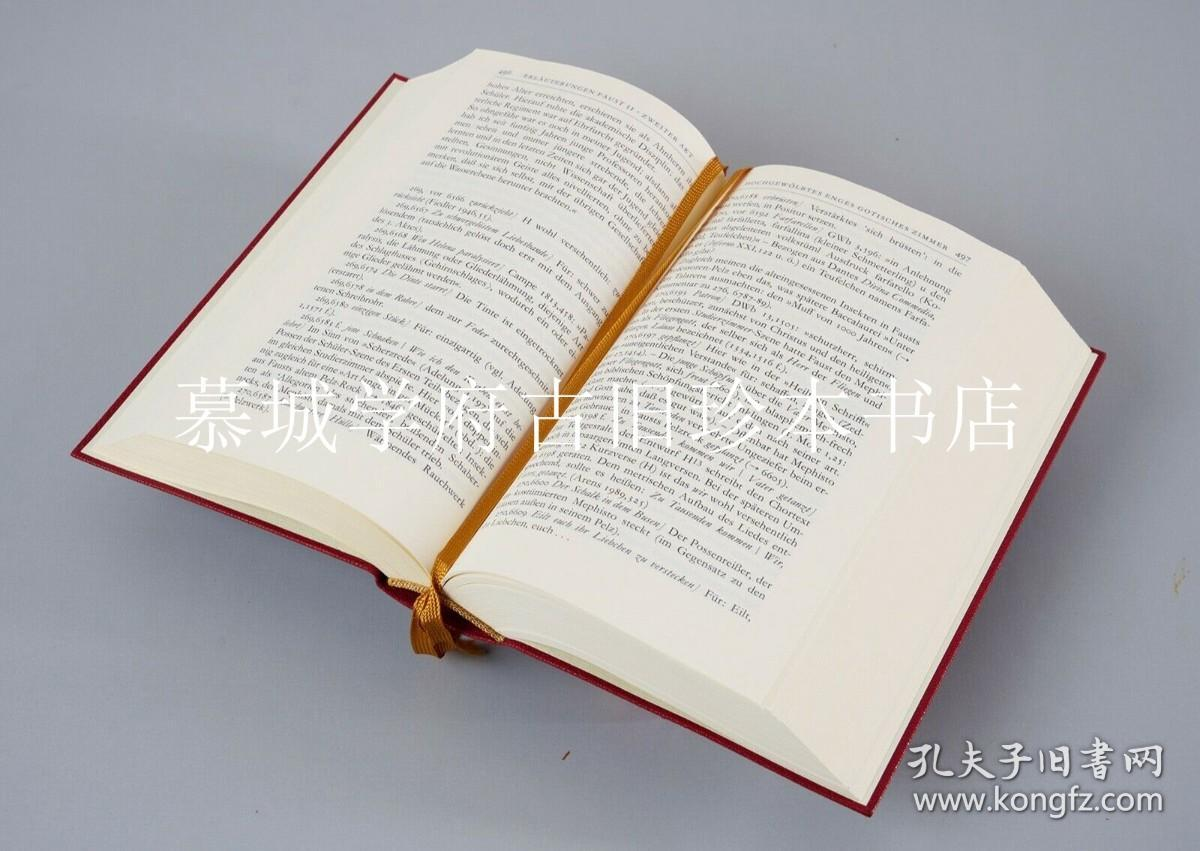book: (61, 42, 1101, 817)
